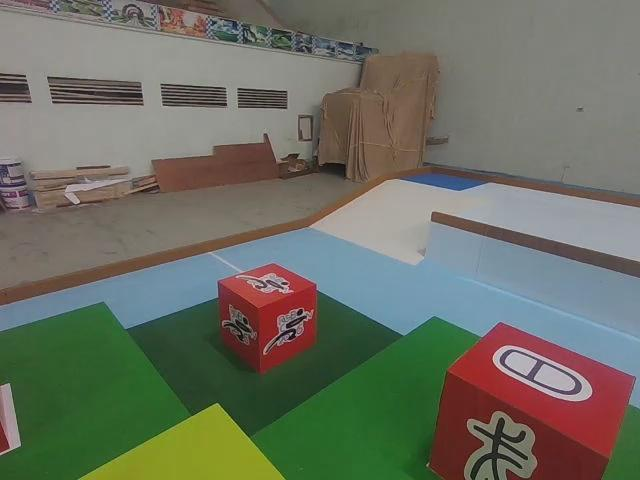R1: (218, 263, 316, 374)
R2 Fake: (427, 320, 638, 480)
